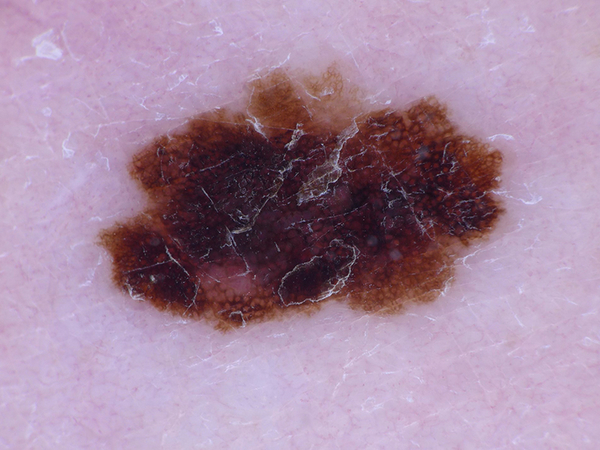Detected Lesion: (92, 69, 516, 331)
